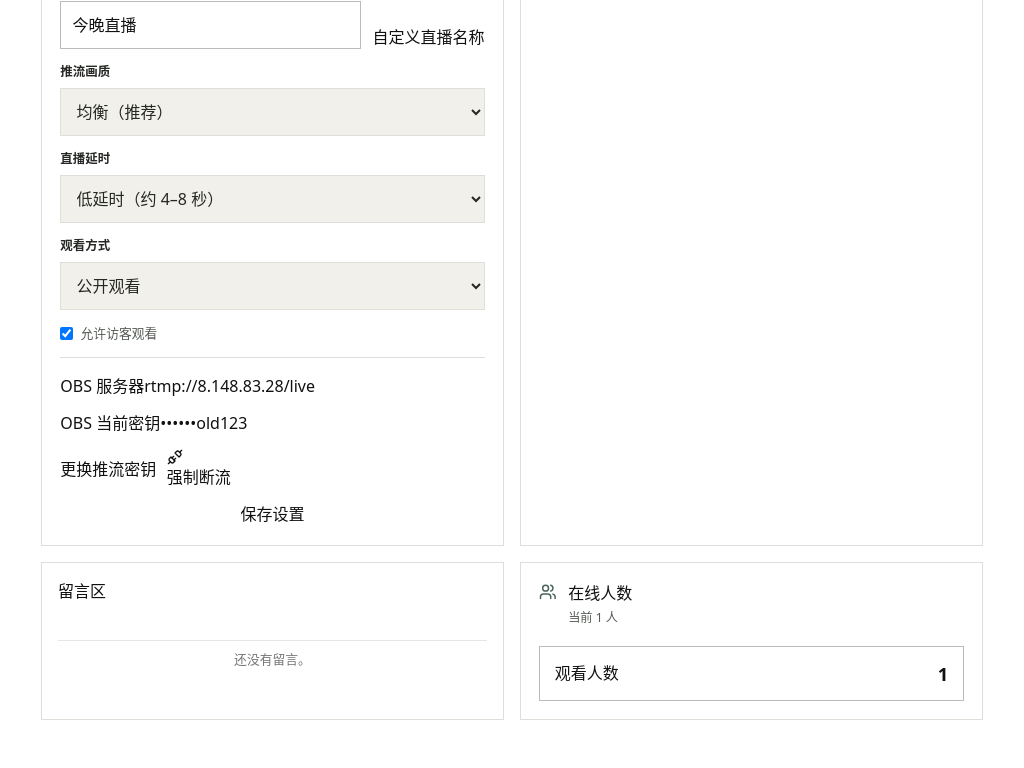
it: live administrator workspace › keeps the compact settings focused on viewing and OBS
This screenshot has width=1024, height=768.
(page scrolled)
Click the button with aria-label "观看人数：1": (587, 673) [539, 646, 964, 701]
(page scrolled)
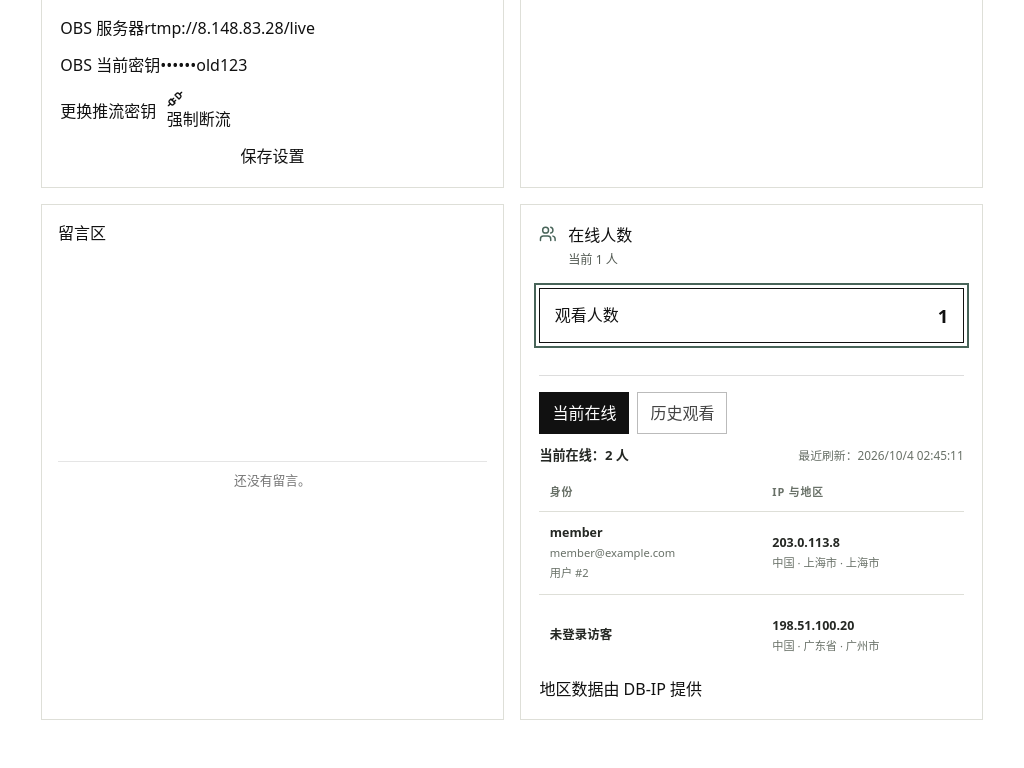
Now the text "当前在线：2 人" is shown, box [539, 446, 629, 466]
